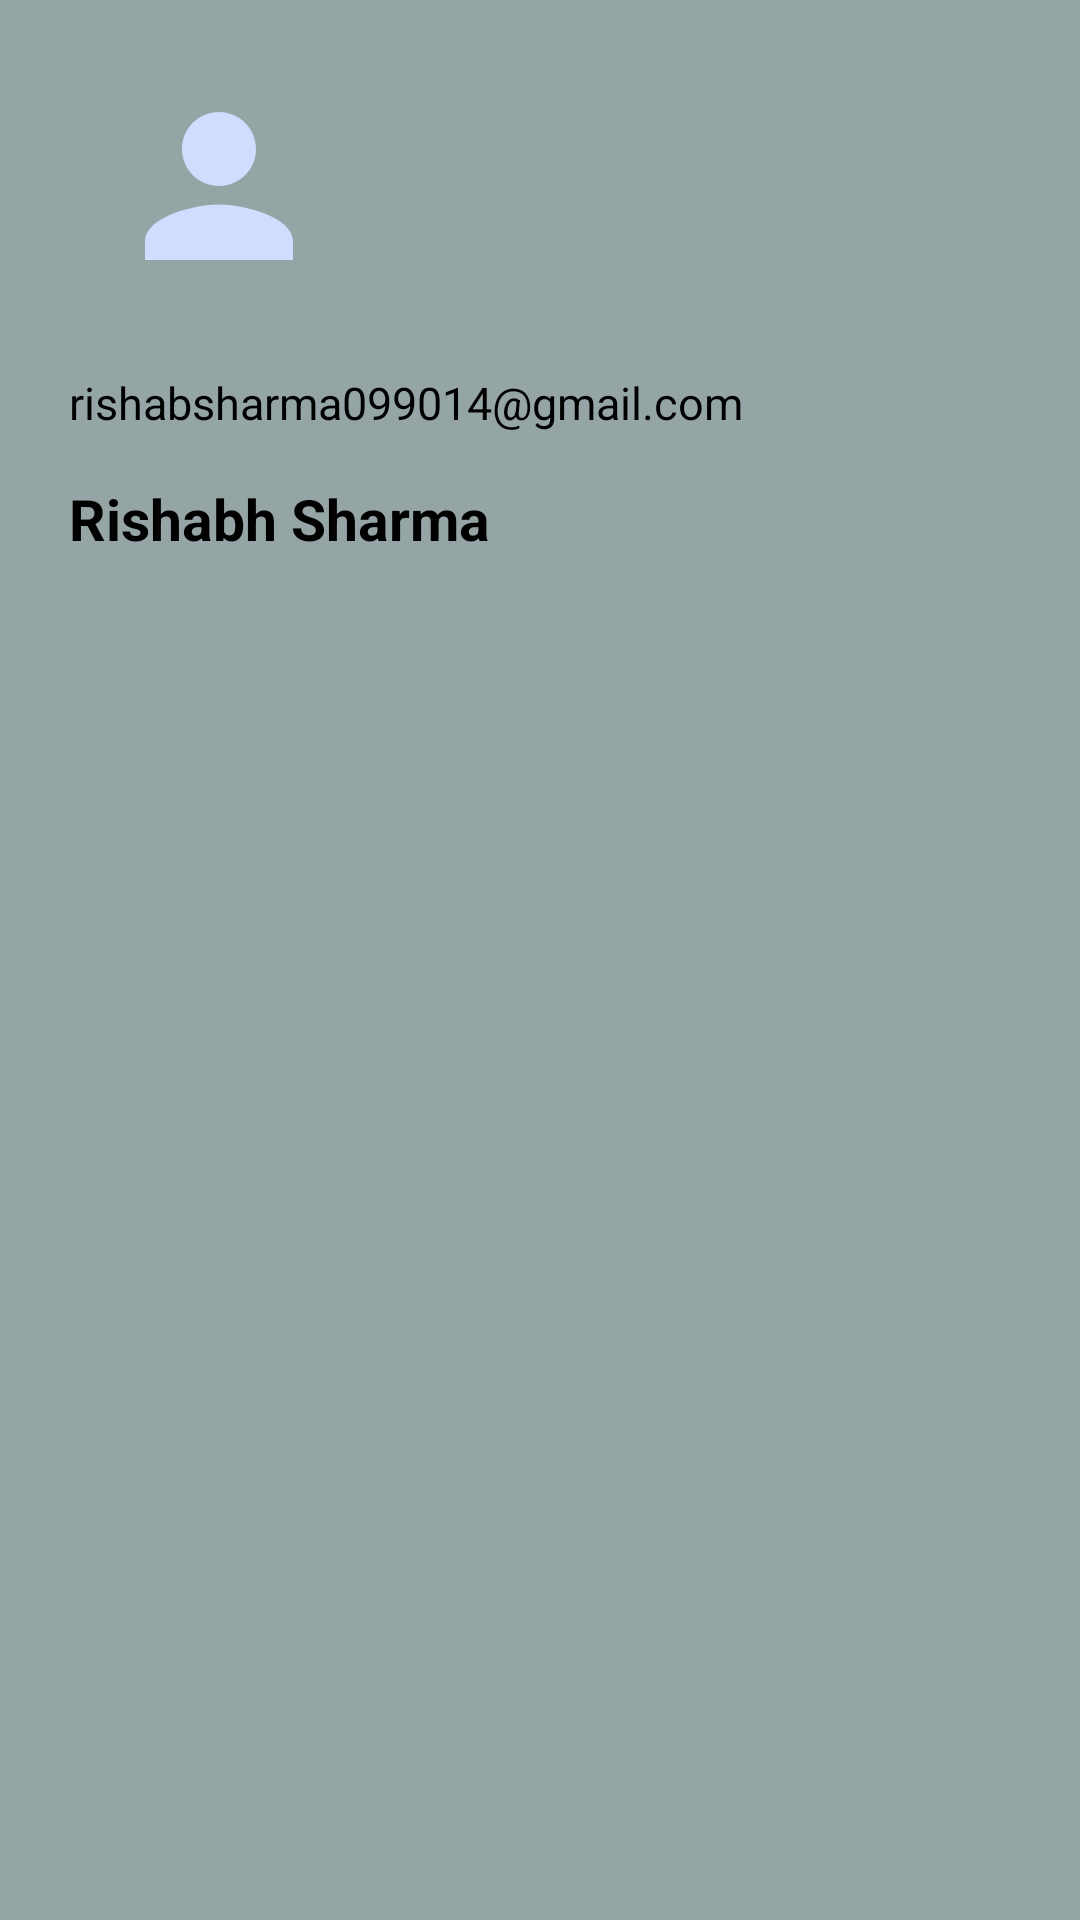

Icon bounding boxes for this 1080px×1920px phone screenshot, format (x1, y1, x2, y2):
person: (145, 112, 293, 260)
